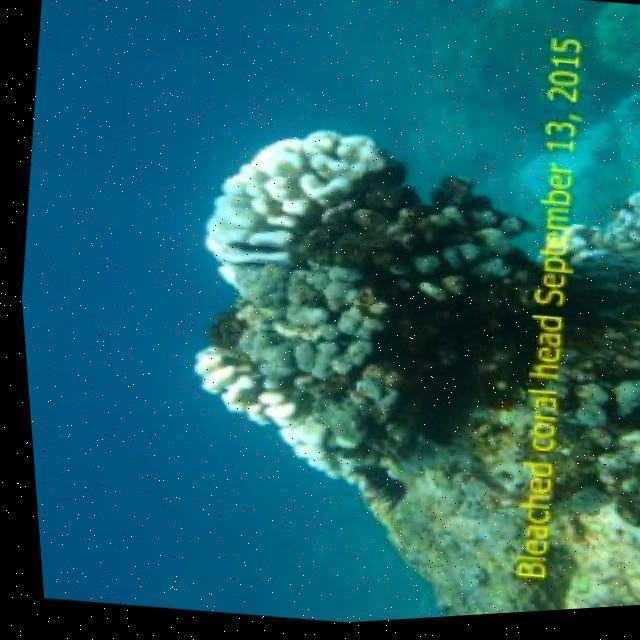Bleached Coral: (163, 96, 405, 299), (166, 319, 336, 500)
